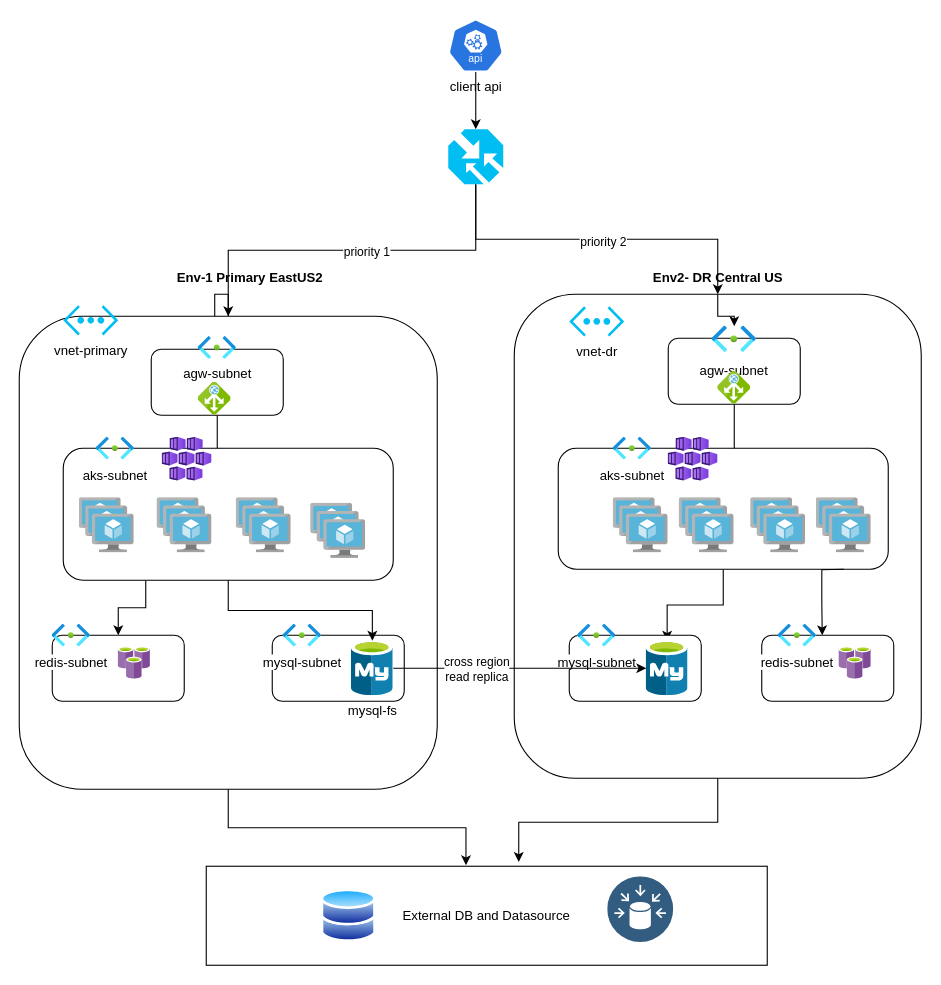
Some shapes in this 941 by 985 pixel diagram are drawn without their labels. The shapes that lost their labels are listed below. From the top down, each one's centre as x and y in pixels, then its label:
At point 475,156: "traffic manager (Priority Routing)".
At point 667,667: "mysql-fs-replica".
